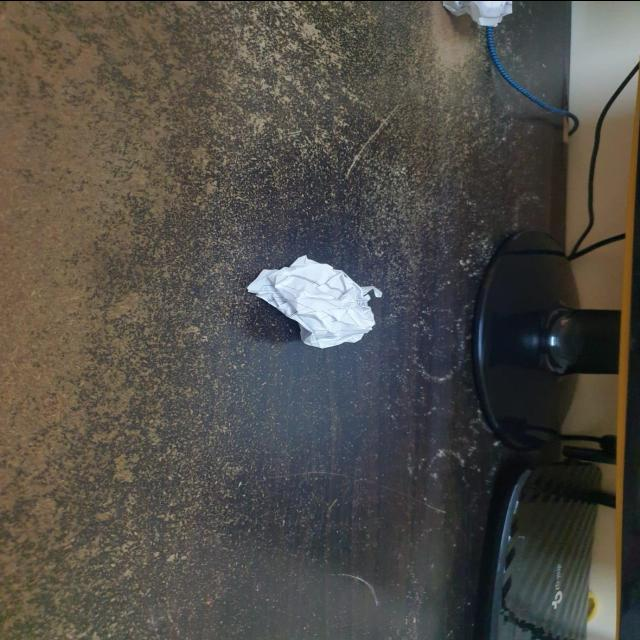kertas: (248, 247, 386, 352)
